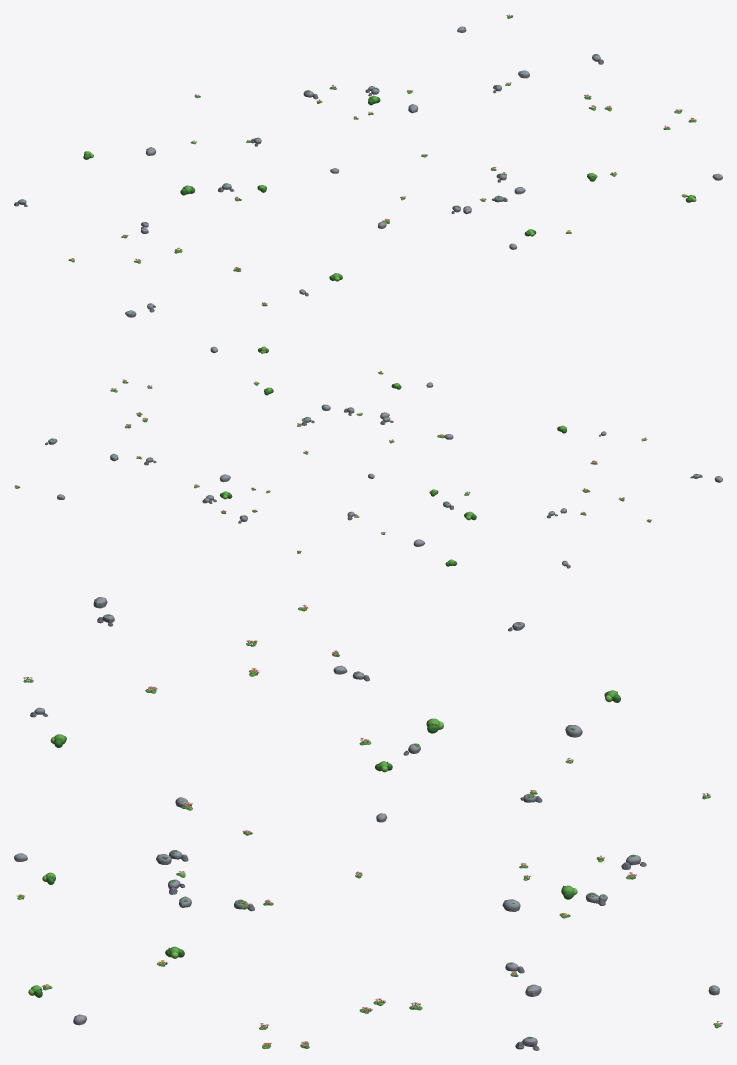
Rendered from level_3_decor.glb.
The picture shows the model from 3 angles, top to bottom: view 1: azimuth 30°, elevation 25°; view 2: azimuth 150°, elevation 25°; view 3: azimuth 270°, elevation 25°; orthographic projection. The views are drawn at different scales.
Visible parts, largest first — view 1: Chunk_0_0, Chunk_m1_m1, Chunk_0_m1; view 2: Chunk_0_0, Chunk_0_m1, Chunk_m1_m1; view 3: Chunk_0_0, Chunk_0_m1, Chunk_m1_m1, Chunk_m1_0, Chunk_1_m1.
Boxes of the visible parts, x1,y1,x2,y2 form: Chunk_0_0: (400,154,617,249); Chunk_m1_m1: (83,94,339,195); Chunk_0_m1: (303,82,511,119); Chunk_0_0: (253,371,433,454); Chunk_0_m1: (136,456,271,523); Chunk_m1_m1: (297,473,476,566); Chunk_0_0: (14,830,362,966); Chunk_0_m1: (502,854,646,976); Chunk_m1_m1: (375,690,710,822); Chunk_m1_0: (23,668,371,810); Chunk_1_m1: (359,984,722,1050).
Size of what is drawn, in the model's own units: 28.89 by 0.3788 by 19.2.
Materials: 1 (1 with a texture image).
